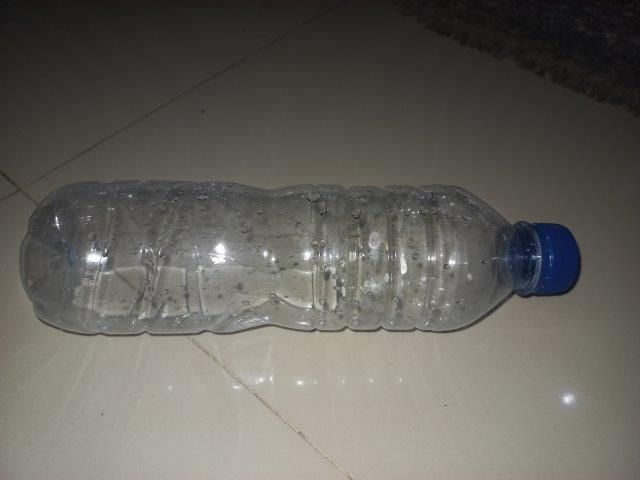botolplastik: (19, 182, 583, 333)
